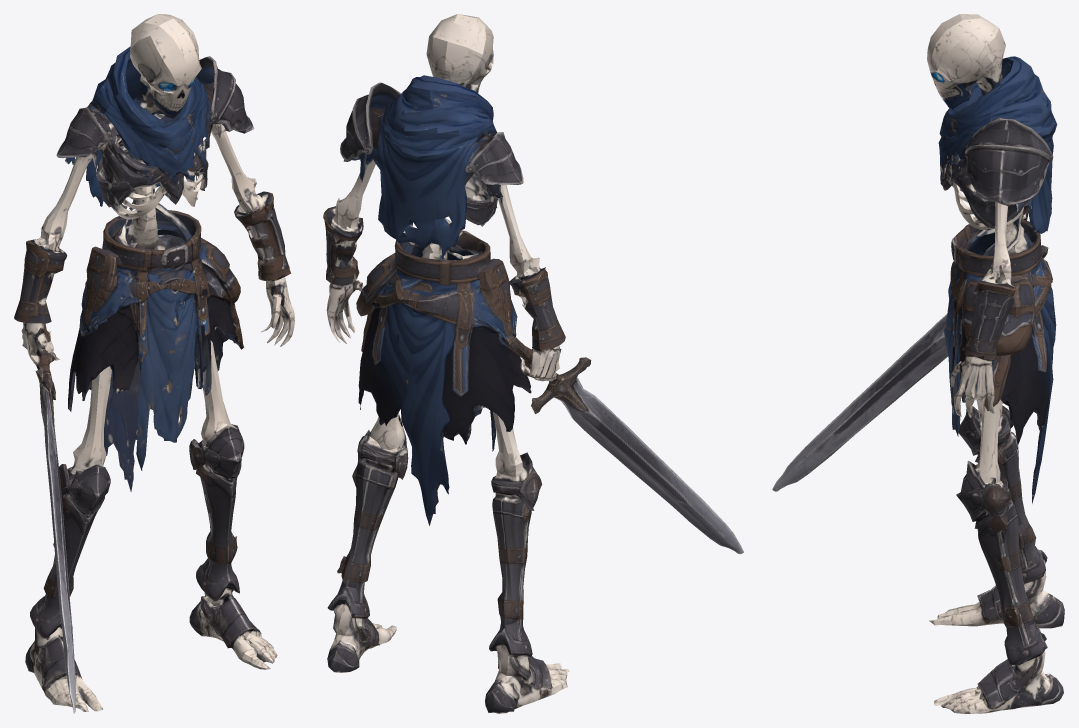
The model's file is Skeleton.fbx.
3 views of the same model, side by side, from view 1: azimuth 30°, elevation 25°; view 2: azimuth 150°, elevation 25°; view 3: azimuth 270°, elevation 25° (orthographic). The views are drawn at different scales.
Visible parts, largest first — view 1: Mesh0; view 2: Mesh0; view 3: Mesh0.
Boxes of the visible parts, left/top/right/bottom form: Mesh0: left=14, top=14, right=294, bottom=713; Mesh0: left=323, top=14, right=743, bottom=713; Mesh0: left=772, top=14, right=1064, bottom=713.
Size of the model in its own units: 96.2 by 189 by 77.69.
1 material, 1 textured.
